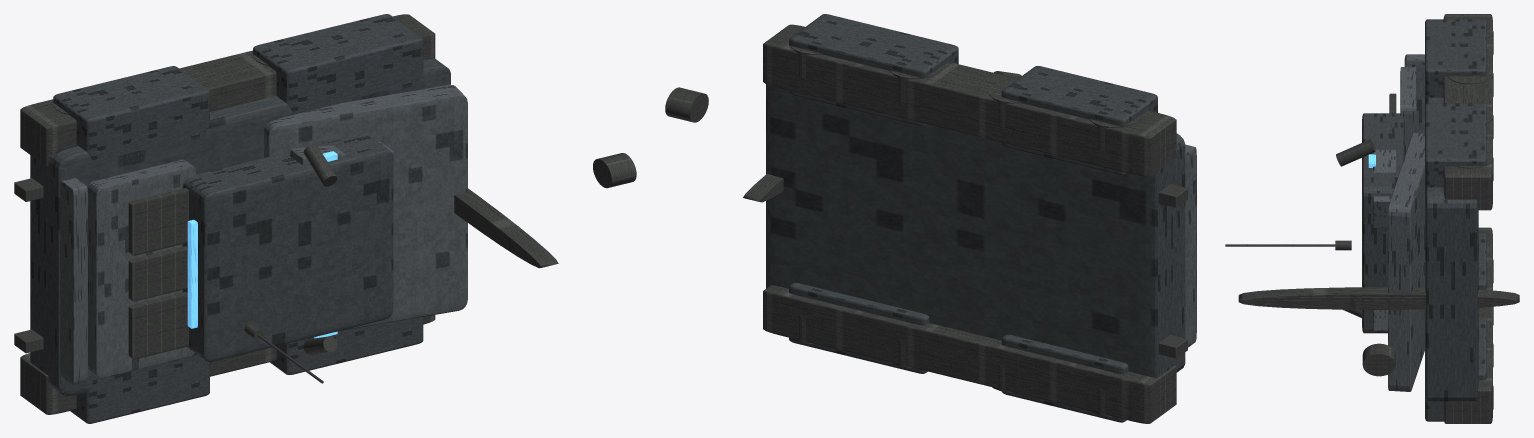
The model's file is s-u13-specter-main-battle-tank-lod0.glb.
The picture shows the model from 3 angles, left to right: view 1: azimuth 30°, elevation 25°; view 2: azimuth 150°, elevation 25°; view 3: azimuth 270°, elevation 25°; orthographic projection. The views are drawn at different scales.
Parts seen in each view (by area): view 1: turret_yaw, glacis, hull_lower, track_pod_fl, track_pod_rl, engine_deck, track_left, rear_armor, track_pod_rr, track_pod_fr, engine_grille_03, engine_grille_01 (+6 smaller); view 2: hull_lower, track_left, track_right, track_pod_fl, track_pod_rl, track_pod_fr, rear_armor, track_pod_rr, muzzle, gun_pitch, wheel_l_2, tow_hook_left (+1 smaller); view 3: hull_lower, glacis, turret_yaw, gun_pitch, track_pod_fl, track_pod_rl, track_left, track_right, engine_deck, stealth_cheek_left, track_pod_fr, muzzle (+6 smaller).
Part boxes in pixels (x1=…): turret_yaw: x1=182, y1=135, x2=393, y2=361; glacis: x1=264, y1=84, x2=467, y2=331; hull_lower: x1=30, y1=59, x2=450, y2=395; track_pod_fl: x1=253, y1=14, x2=423, y2=112; track_pod_rl: x1=53, y1=66, x2=209, y2=173; engine_deck: x1=87, y1=159, x2=195, y2=378; track_left: x1=20, y1=14, x2=435, y2=166; rear_armor: x1=60, y1=178, x2=87, y2=384; track_pod_rr: x1=70, y1=353, x2=209, y2=423; track_pod_fr: x1=270, y1=317, x2=423, y2=374; engine_grille_03: x1=128, y1=188, x2=188, y2=255; engine_grille_01: x1=128, y1=292, x2=188, y2=359; hull_lower: x1=766, y1=84, x2=1185, y2=378; track_left: x1=763, y1=24, x2=1176, y2=176; track_right: x1=763, y1=285, x2=1176, y2=423; track_pod_fl: x1=789, y1=14, x2=958, y2=126; track_pod_rl: x1=1001, y1=66, x2=1157, y2=175; track_pod_fr: x1=789, y1=282, x2=929, y2=373; rear_armor: x1=1185, y1=144, x2=1196, y2=347; track_pod_rr: x1=1001, y1=334, x2=1128, y2=422; muzzle: x1=665, y1=87, x2=708, y2=122; gun_pitch: x1=743, y1=173, x2=783, y2=202; wheel_l_2: x1=988, y1=80, x2=1021, y2=127; tow_hook_left: x1=1158, y1=184, x2=1187, y2=207; hull_lower: x1=1425, y1=97, x2=1478, y2=401; glacis: x1=1388, y1=132, x2=1424, y2=391; turret_yaw: x1=1362, y1=113, x2=1404, y2=333; gun_pitch: x1=1238, y1=287, x2=1519, y2=309; track_pod_fl: x1=1425, y1=103, x2=1486, y2=192; track_pod_rl: x1=1425, y1=19, x2=1486, y2=103; track_left: x1=1443, y1=14, x2=1492, y2=210; track_right: x1=1443, y1=227, x2=1492, y2=423; engine_deck: x1=1400, y1=67, x2=1416, y2=156; stealth_cheek_left: x1=1373, y1=149, x2=1396, y2=227; track_pod_fr: x1=1425, y1=317, x2=1486, y2=421; muzzle: x1=1362, y1=343, x2=1395, y2=376.
Size of what is drawn, in the model's own units: 8.11 by 4.24 by 4.29.
5 materials, 5 textured.
